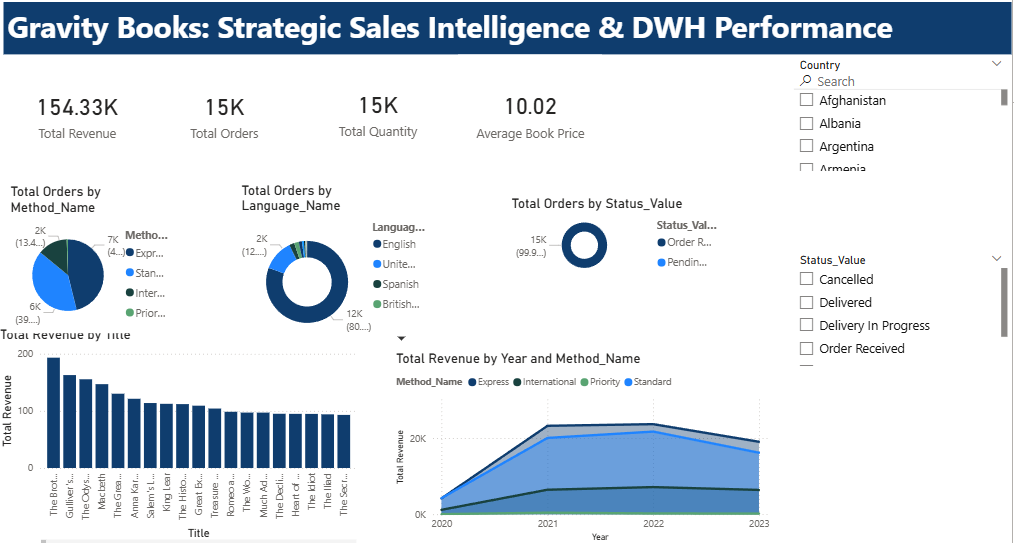

Layout of this report page (visuals, bound fields, positions):
{"tool":"powerbi","page":{"name":"Page 1","canvas":[1280,720],"ordinal":0},"visuals":[{"type":"card","fields":{"Values":["Fact_Sales.Total Revenue"]},"box":[9.4,88.8,185.2,164.4],"z":0},{"type":"card","fields":{"Values":["Fact_Sales.Total Orders"]},"box":[194.6,88.8,185.2,164.4],"z":1000},{"type":"card","fields":{"Values":["Fact_Sales.Total Quantity"]},"box":[379.8,88.8,202.2,158.7],"z":2000},{"type":"clusteredColumnChart","fields":{"Y":["Fact_Sales.Total Revenue"],"Category":["Dim_Book.Title"]},"box":[0,438.4,459.2,281.6],"z":3000},{"type":"donutChart","fields":{"Y":["Fact_Sales.Total Orders"],"Category":["Dim_Order_History_Status.Status_Value"]},"box":[644.4,274,272.1,103.9],"z":4000},{"type":"slicer","fields":{"Values":["Dim_Address.Country"]},"box":[999.7,122.8,279.7,151.2],"z":5000},{"type":"slicer","fields":{"Values":["Dim_Order_History_Status.Status_Value"]},"box":[999.7,342,279.7,151.2],"z":6000},{"type":"pieChart","fields":{"Category":["Dim_Shipping_Method.Method_Name"],"Y":["Fact_Sales.Total Orders"]},"box":[13.2,258.9,217.3,189],"z":7000},{"type":"decompositionTreeVisual","fields":{"Analyze":["Fact_Sales.Total Revenue"],"ExplainBy":["Dim_Shipping_Method.Method_Name","Dim_Address.Country","Dim_Book.Language_Name"]},"box":[999.7,542.4,279.7,151.2],"z":8000},{"type":"areaChart","fields":{"Category":["Dim_Order_History.Status_Date.Variation.Date Hierarchy.Year","Dim_Order_History.Status_Date.Variation.Date Hierarchy.Quarter","Dim_Order_History.Status_Date.Variation.Date Hierarchy.Month","Dim_Order_History.Status_Date.Variation.Date Hierarchy.Day"],"Y":["Fact_Sales.Total Revenue"],"Series":["Dim_Shipping_Method.Method_Name"]},"box":[498.9,468.7,480,245.7],"z":9000},{"type":"donutChart","fields":{"Category":["Dim_Book.Language_Name"],"Y":["Fact_Sales.Total Orders"]},"box":[304.3,257,245.7,209.8],"z":10000},{"type":"textbox","box":[9.4,30.2,1269.9,66.1],"z":11000},{"type":"card","fields":{"Values":["Fact_Sales.Average Book Price"]},"box":[582.1,96.4,181.4,147.4],"z":12000}]}

Visuals, with their boxes on the page's 1280x720 design canvas (x1, y1, x2, y2). These are canvas units, not pixel positions in the 1014x543 screenshot, which may show the page scaled, cropped or inside an application window:
card - Fact_Sales.Total Revenue: BBox(9, 89, 195, 253)
card - Fact_Sales.Total Orders: BBox(195, 89, 380, 253)
card - Fact_Sales.Total Quantity: BBox(380, 89, 582, 248)
clusteredColumnChart - Fact_Sales.Total Revenue x Dim_Book.Title: BBox(0, 438, 459, 720)
donutChart - Fact_Sales.Total Orders x Dim_Order_History_Status.Status_Value: BBox(644, 274, 916, 378)
slicer - Dim_Address.Country: BBox(1000, 123, 1279, 274)
slicer - Dim_Order_History_Status.Status_Value: BBox(1000, 342, 1279, 493)
pieChart - Dim_Shipping_Method.Method_Name x Fact_Sales.Total Orders: BBox(13, 259, 230, 448)
decompositionTreeVisual - Fact_Sales.Total Revenue x Dim_Shipping_Method.Method_Name: BBox(1000, 542, 1279, 694)
areaChart - Dim_Order_History.Status_Date.Variation.Date Hierarchy.Year x Dim_Order_History.Status_Date.Variation.Date Hierarchy.Quarter: BBox(499, 469, 979, 714)
donutChart - Dim_Book.Language_Name x Fact_Sales.Total Orders: BBox(304, 257, 550, 467)
textbox: BBox(9, 30, 1279, 96)
card - Fact_Sales.Average Book Price: BBox(582, 96, 764, 244)
